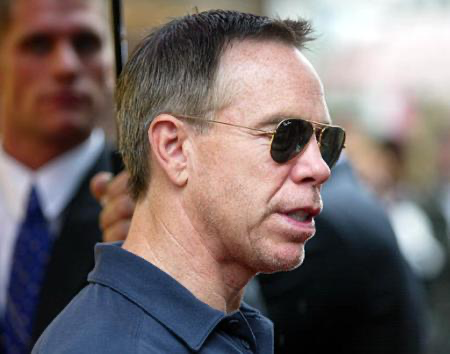Face: (217, 57, 347, 278), (4, 4, 119, 135)
